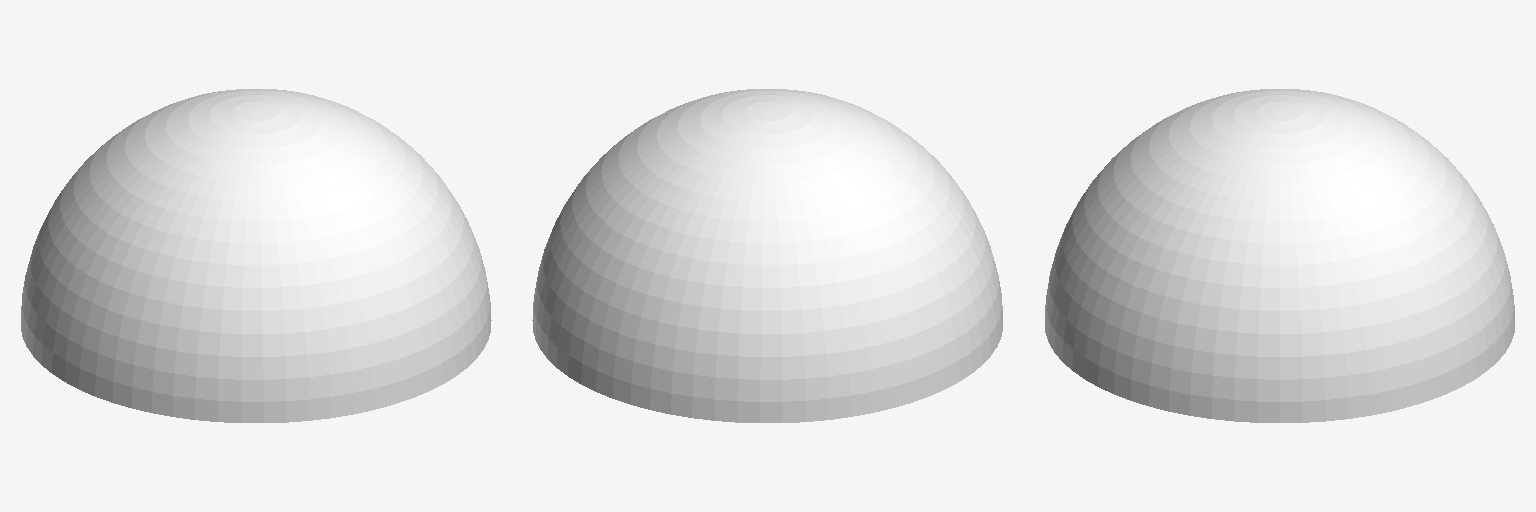
robot.urdf — hemisphere.urdf:
<?xml version="1.0" ?>
<robot name="hemisphere.urdf">

  <link name="hemisphere">
    <contact>
      <friction_anchor/>
      <lateral_friction value="1.0"/>
    </contact>
    <inertial>
      <origin rpy="0 0 0" xyz="0 0 0.01875"/>
      <mass value="0.1"/>
      <inertia ixx="0.00006484375" ixy="0" ixz="0" iyy="0.00006484375" iyz="0" izz="0.0001"/>
    </inertial>
    <visual>
      <origin rpy="0 0 0" xyz="0 0 0"/>
      <geometry>
        <mesh filename="hemisphere.obj" scale="1 1 1"/>
      </geometry>
      <material name="white">
        <color rgba="1.0 1.0 1.0 1.0"/>
      </material>
    </visual>
    <collision>
      <origin rpy="0 0 0" xyz="0 0 0"/>
      <geometry>
        <mesh filename="hemisphere.obj" scale="1 1 1"/>
      </geometry>
    </collision>
  </link>

</robot>

--- Facts derived from the render (not from the file) ---
The picture shows the robot from 3 angles, left to right: view 1: azimuth 30°, elevation 25°; view 2: azimuth 150°, elevation 25°; view 3: azimuth 270°, elevation 25°; orthographic projection.
Robot: hemisphere.urdf — 1 links, 0 joints (none); root link hemisphere; default pose: every joint at zero.
Links seen in each view (by area): view 1: hemisphere; view 2: hemisphere; view 3: hemisphere.
Link boxes in pixels (bbox=[...]): hemisphere: bbox=[21, 89, 491, 422]; hemisphere: bbox=[532, 89, 1002, 422]; hemisphere: bbox=[1045, 89, 1514, 422].
Size in the robot's own frame: 0.1 by 0.1 by 0.05 metres.
Meshes: 1 distinct files referenced, 1 mesh visuals loaded (1 OBJ).
